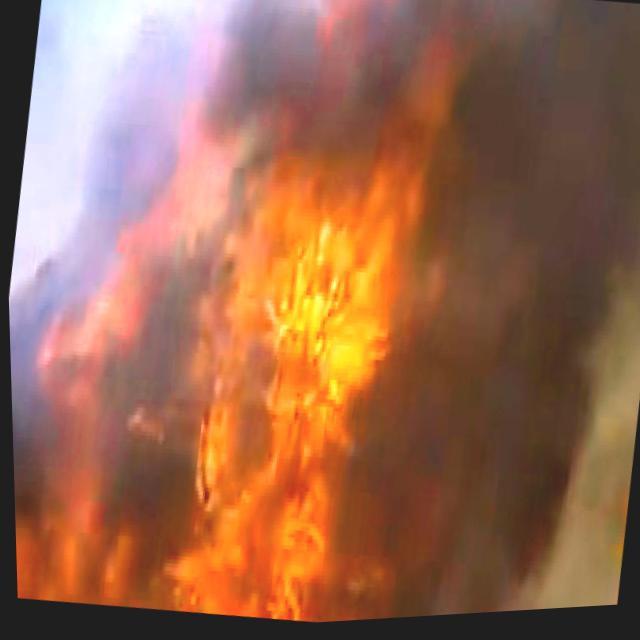fire: (146, 47, 478, 633), (12, 504, 173, 619)
smoke: (0, 0, 232, 501), (471, 0, 640, 365), (448, 367, 640, 620)
